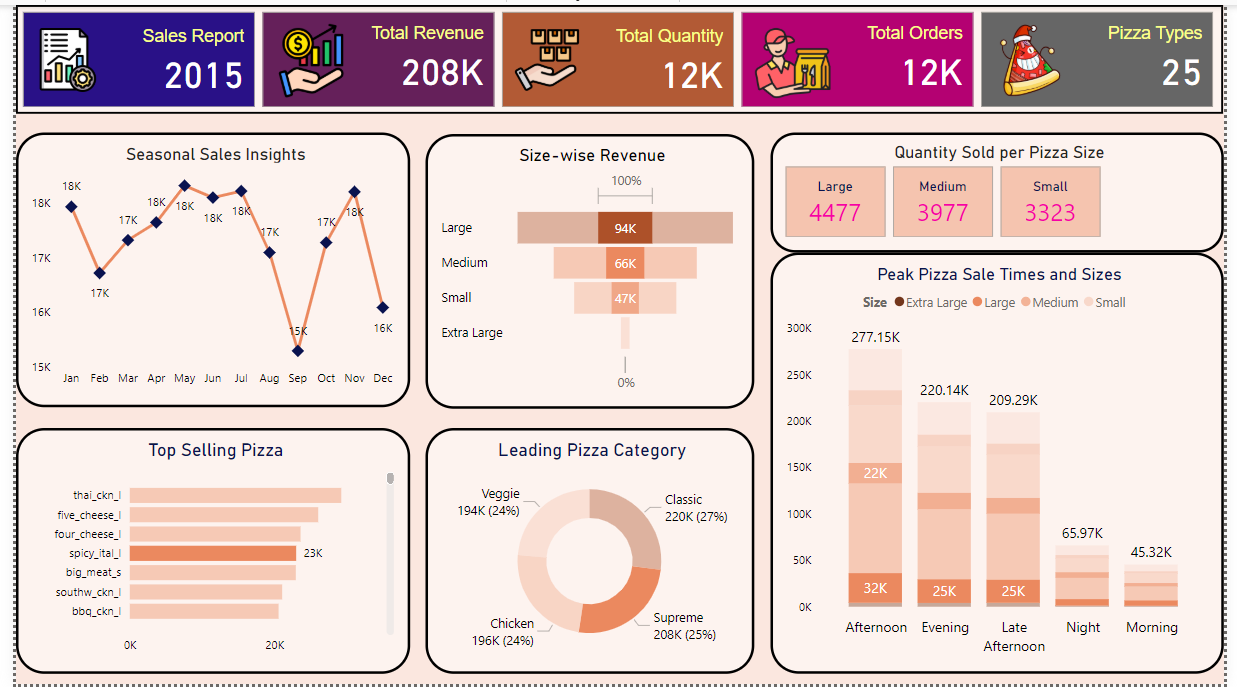

What the dashboard file says about the page in this screenshot:
{"tool":"powerbi","page":{"name":"Pizza Dashboard","canvas":[1280,720],"ordinal":0},"visuals":[{"type":"donutChart","title":"Leading Pizza Category","fields":{"Y":["Sum(order_details.Sales cost)"],"Category":["order_details.Category"]},"box":[440.6,448.6,332.4,260.9],"z":0},{"type":"clusteredBarChart","title":"Top Selling Pizza","fields":{"Y":["Sum(order_details.Sales cost)"],"Category":["order_details.pizza_id"]},"box":[12.7,448.6,418.3,260.9],"z":1000},{"type":"columnChart","title":"Peak Pizza Sales Times and Sizes","fields":{"Category":["order_details.TimeCategory"],"Series":["order_details.Size"],"Y":["Sum(order_details.Revenue Collection)"]},"box":[786.2,261,479.8,448.6],"z":2000},{"type":"cardVisual","fields":{"Data":["Measures (2).Sales Report","Measures (2).Total Revenue","Measures (2).Total Quantity","Measures (2).Total Orders","Measures (2).Pizza Types"]},"box":[0,0,1280.1,115.7],"z":3000},{"type":"advancedSlicerVisual","title":"Quantity Sold per Pizza Size","fields":{"Values":["order_details.Size"]},"box":[786.2,128.2,479.8,125],"z":4000},{"type":"lineChart","title":"Seasonal Sales Insights","fields":{"Category":["order_details.Monthno"],"Y":["Sum(order_details.Revenue Collection)"]},"box":[12.7,128.8,418.3,308.6],"z":5000},{"type":"funnel","title":"Size-wise Revenue","fields":{"Y":["Sum(order_details.Revenue Collection)"],"Category":["order_details.Size"]},"box":[440.6,128.8,332.4,308.6],"z":6000}]}

Visuals, with their boxes in screenshot pixels (x1, y1, x2, y2), scaled from the page's 1280x720 canvas onto the 1237x687 screenshot:
"Leading Pizza Category" donutChart: (left=426, top=428, right=747, bottom=677)
"Top Selling Pizza" clusteredBarChart: (left=12, top=428, right=417, bottom=677)
"Peak Pizza Sales Times and Sizes" columnChart: (left=760, top=249, right=1223, bottom=677)
cardVisual - Measures (2).Sales Report x Measures (2).Total Revenue: (left=0, top=0, right=1236, bottom=110)
"Quantity Sold per Pizza Size" advancedSlicerVisual: (left=760, top=122, right=1223, bottom=242)
"Seasonal Sales Insights" lineChart: (left=12, top=123, right=417, bottom=417)
"Size-wise Revenue" funnel: (left=426, top=123, right=747, bottom=417)
